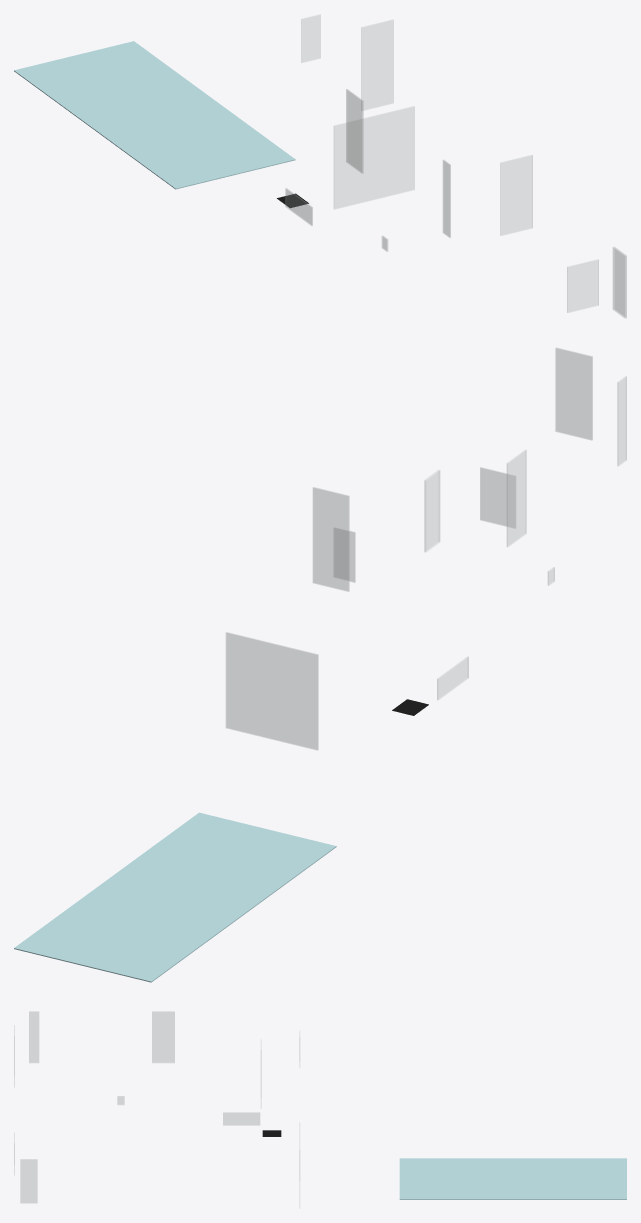
Rendered from vidrios.glb.
3 views of the same model, one above another, from view 1: azimuth 30°, elevation 25°; view 2: azimuth 150°, elevation 25°; view 3: azimuth 270°, elevation 25° (orthographic). The views are drawn at different scales.
Parts seen in each view (by area): view 1: B_Vidrios; view 2: B_Vidrios; view 3: B_Vidrios.
Boxes of the visible parts, left/top/right/bottom form: B_Vidrios: left=14, top=14, right=626, bottom=318; B_Vidrios: left=14, top=347, right=626, bottom=982; B_Vidrios: left=14, top=1011, right=626, bottom=1208.
Size of the model in its own units: 4.53 by 5.14 by 18.89.
